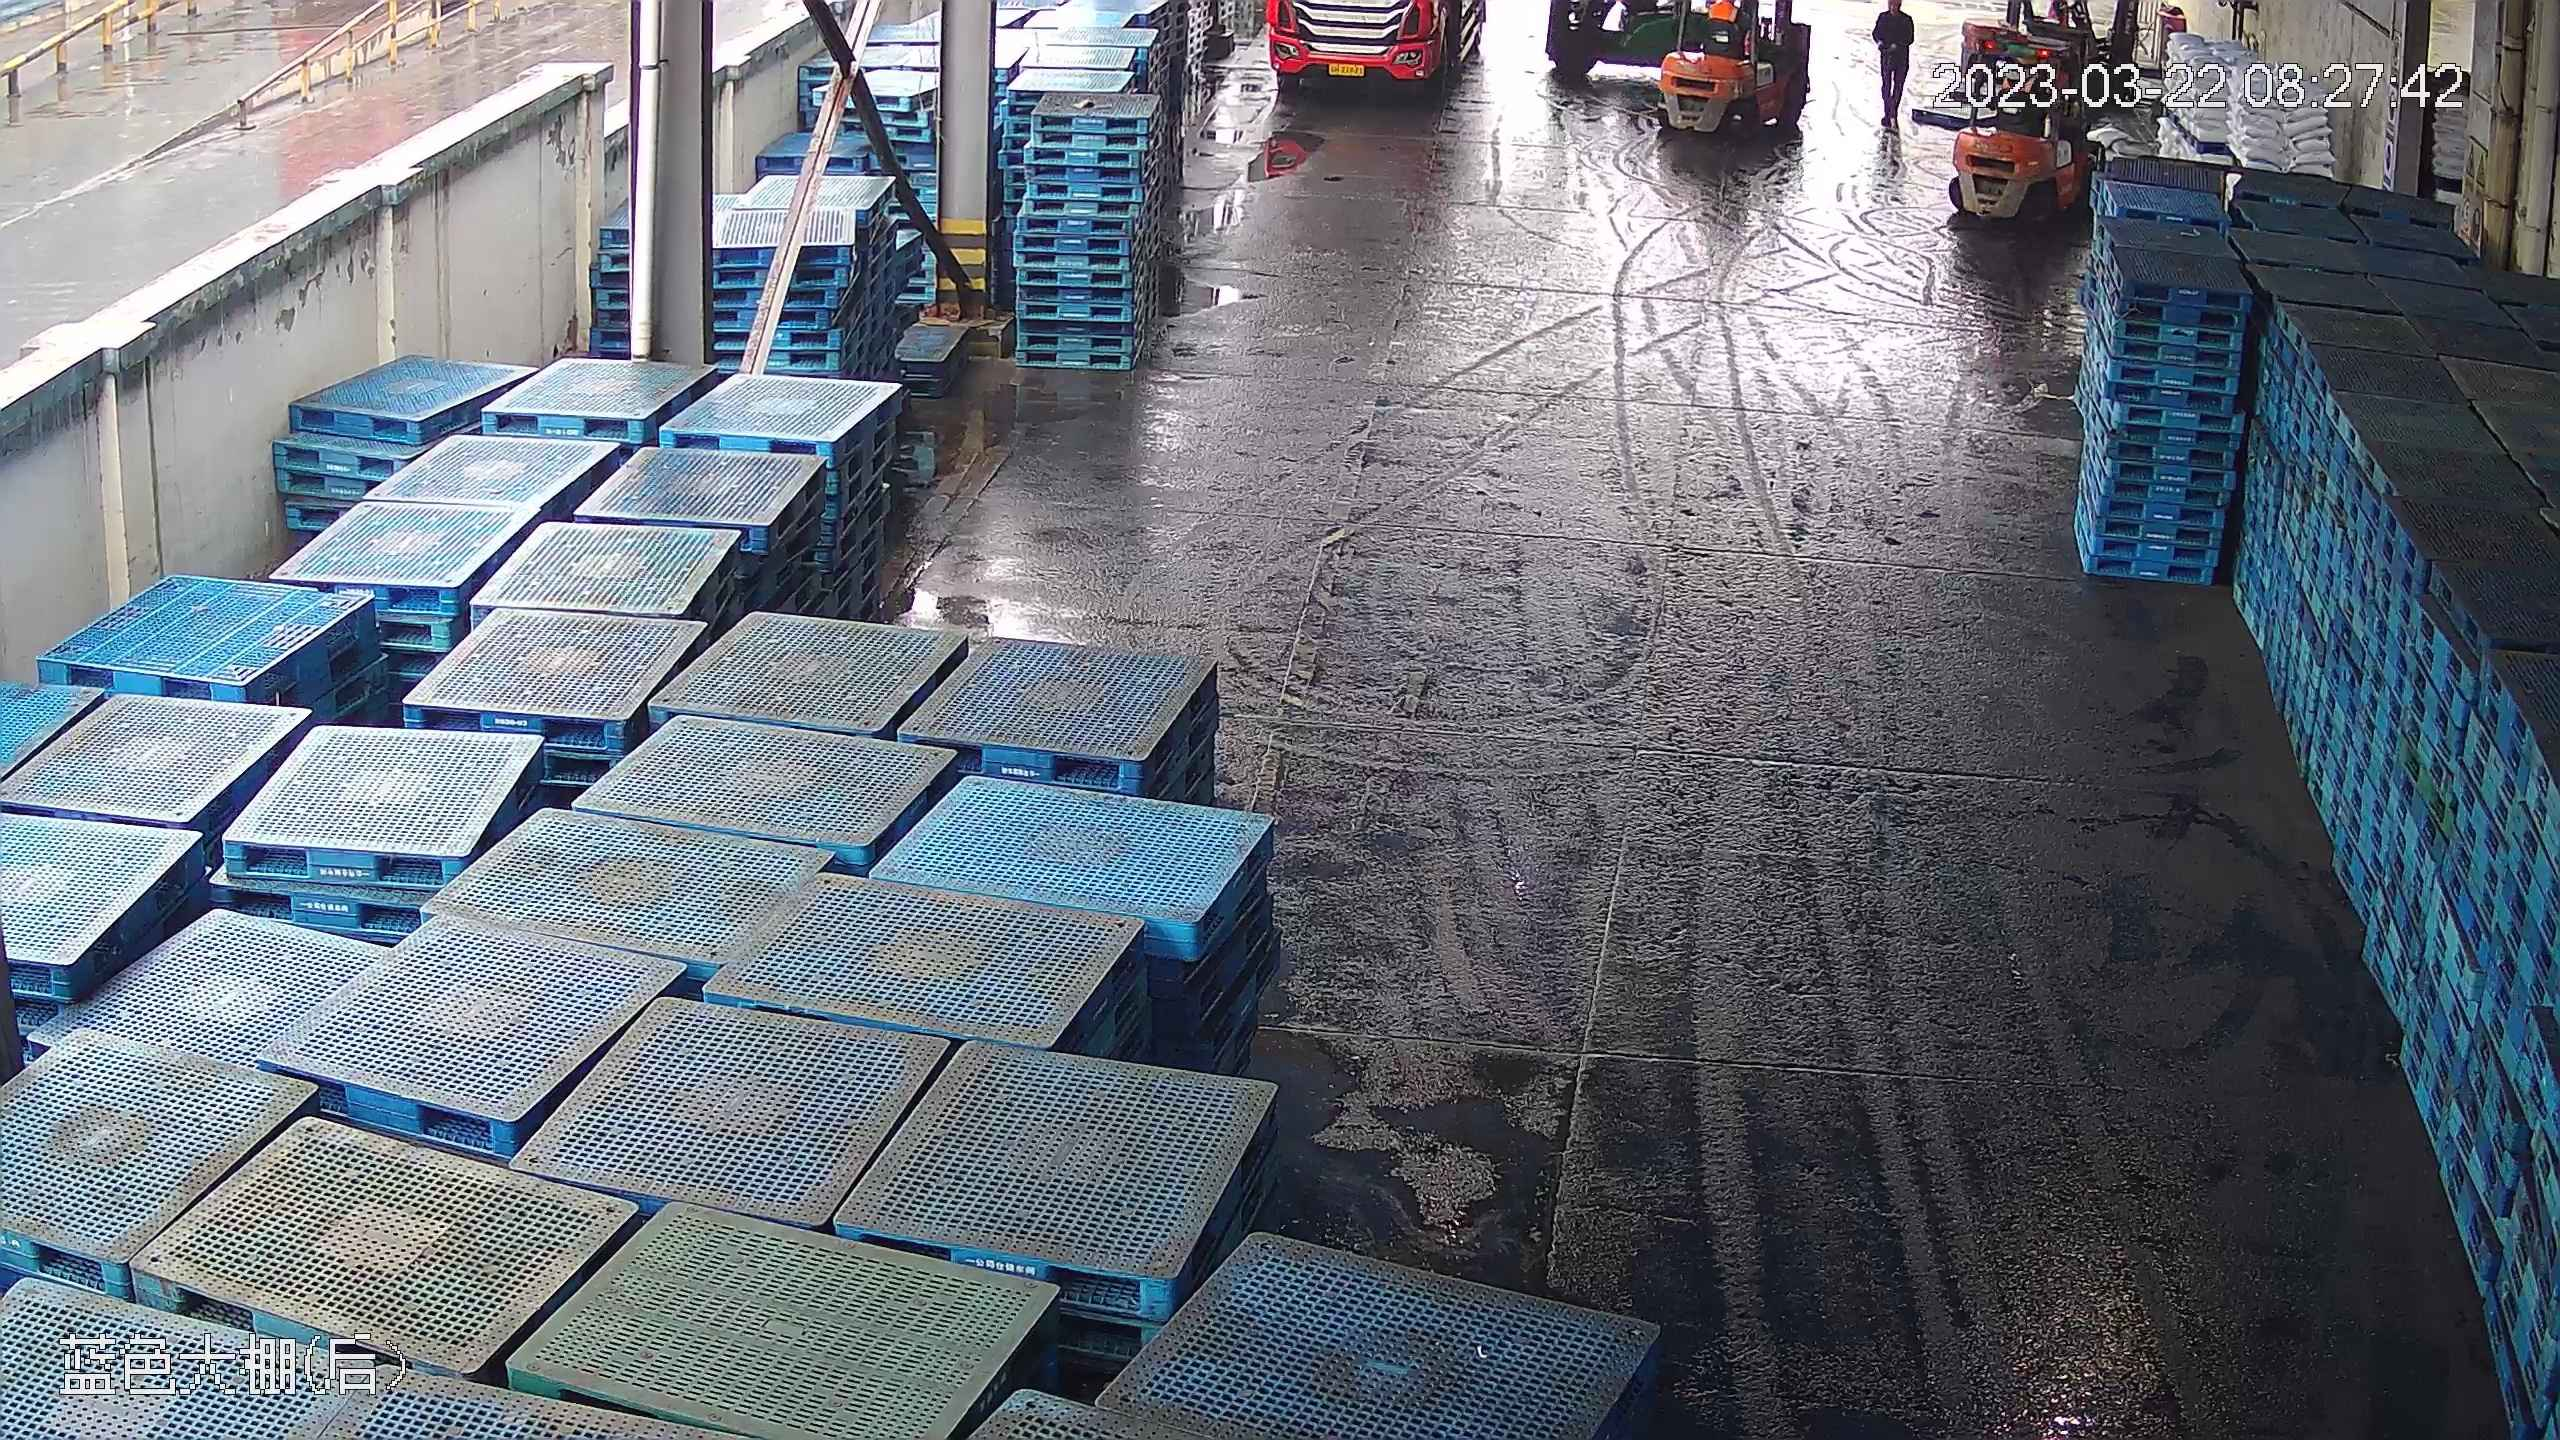head: (1876, 1, 1913, 31)
helmet: (1888, 1, 1904, 8)
people: (1869, 1, 1914, 148)
truck: (1269, 1, 1500, 105)
